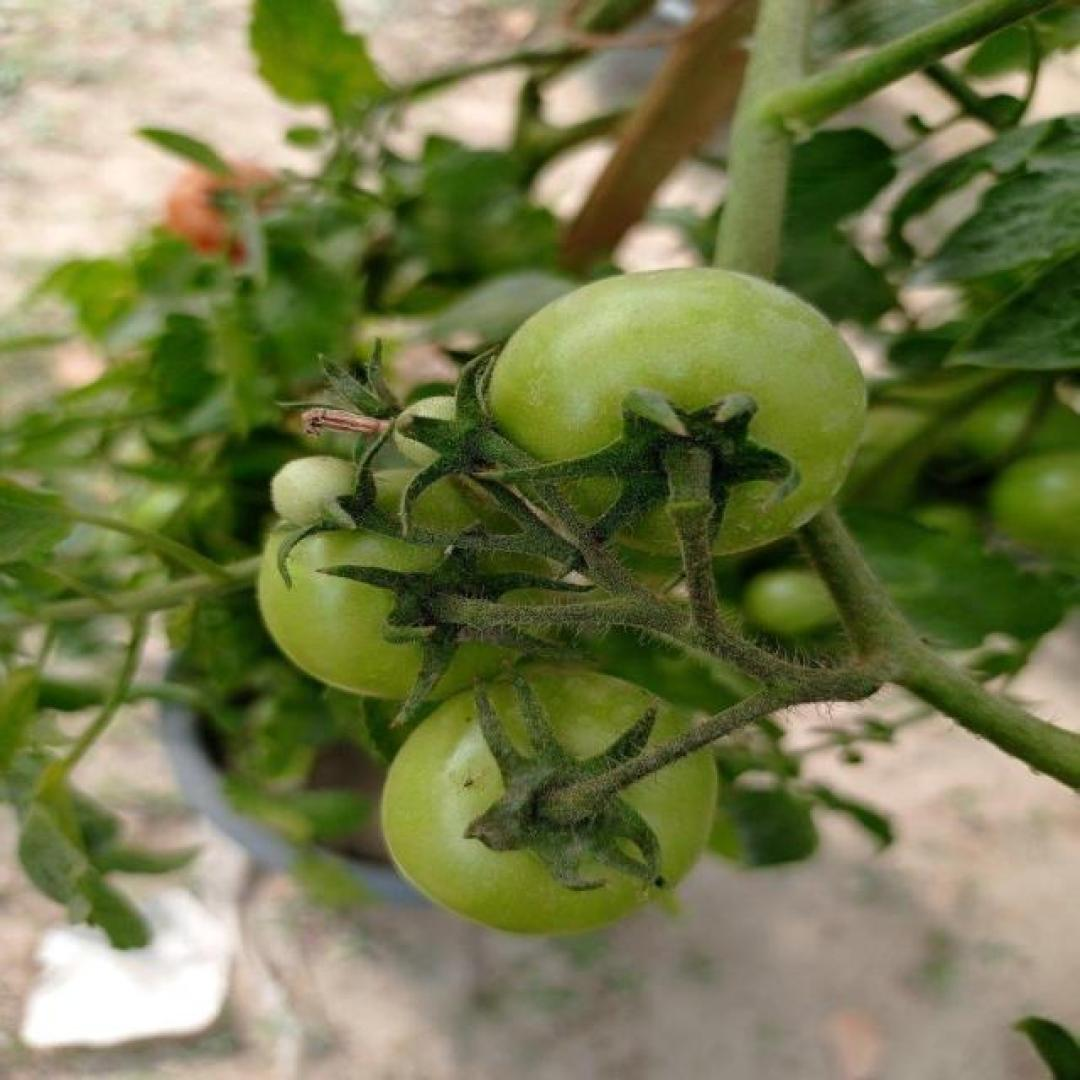mentah: (481, 262, 869, 560), (375, 660, 724, 938), (253, 468, 565, 700)
